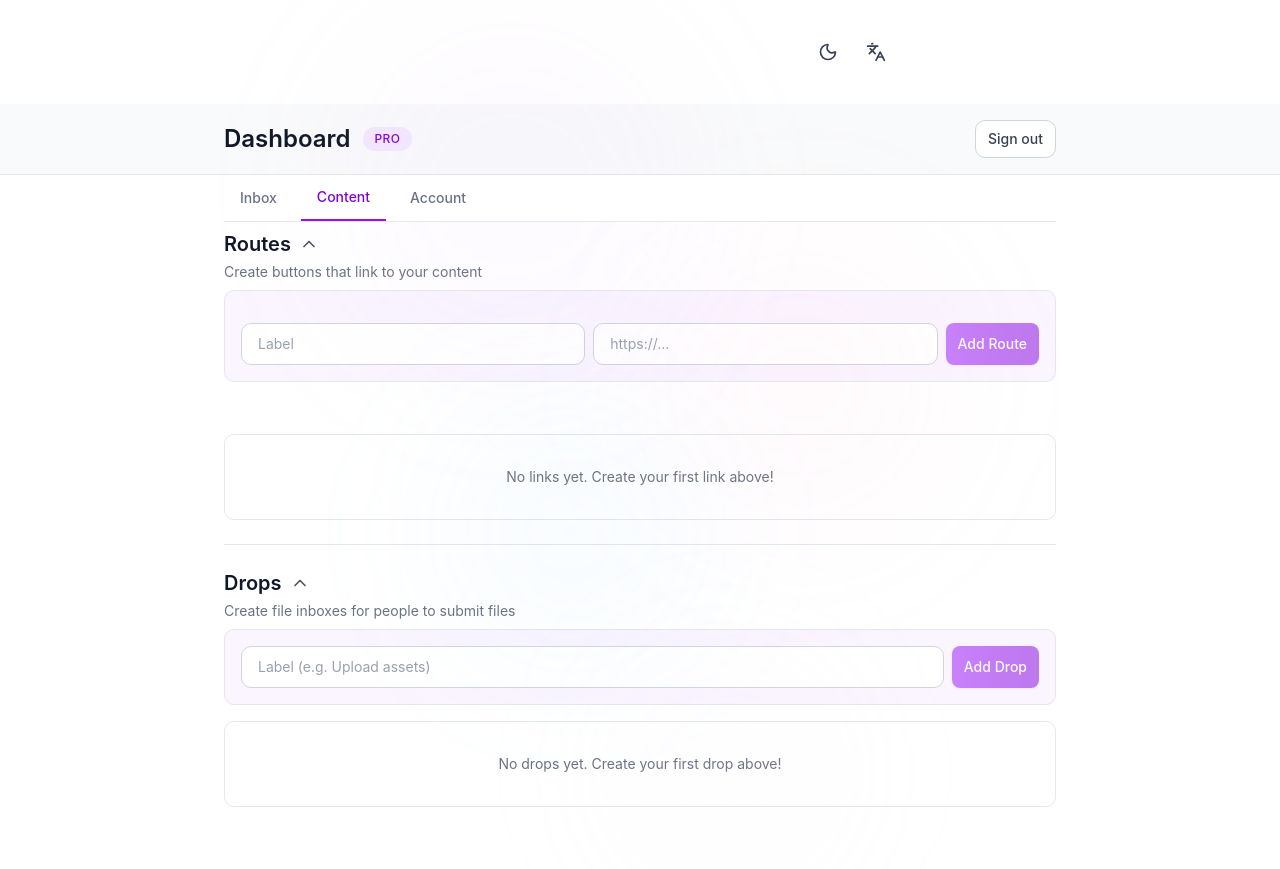
Test: Dashboard › should render AccountTab when activeTab is account
The width and height of the screenshot is (1280, 869).
Use getAllByText and click the first one (TabNavigation)
Click the button "Account" at (438, 198), box top-left (394, 175), bottom-right (482, 221)
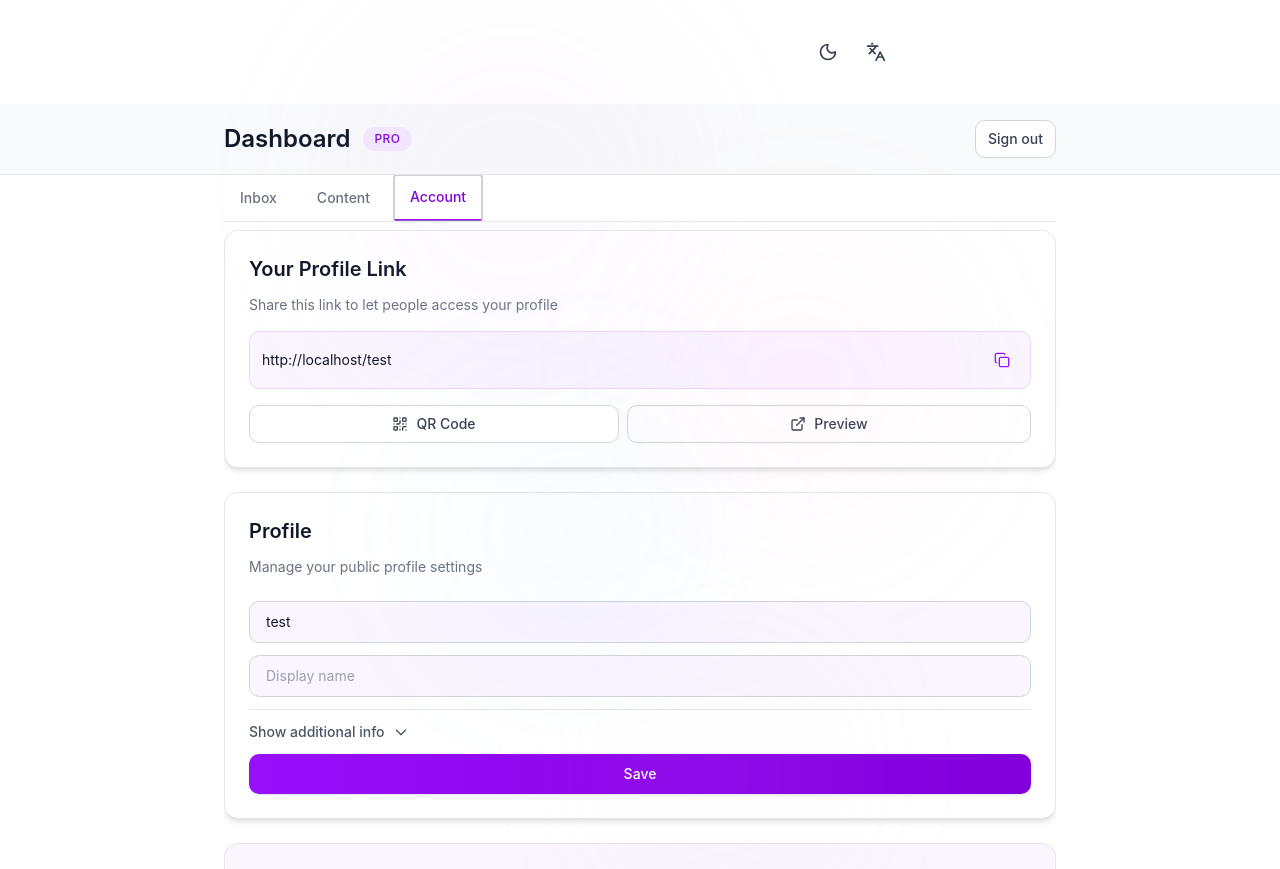
Expected: the heading "Your Profile Link" is shown, top-left (249, 257), bottom-right (407, 281)
